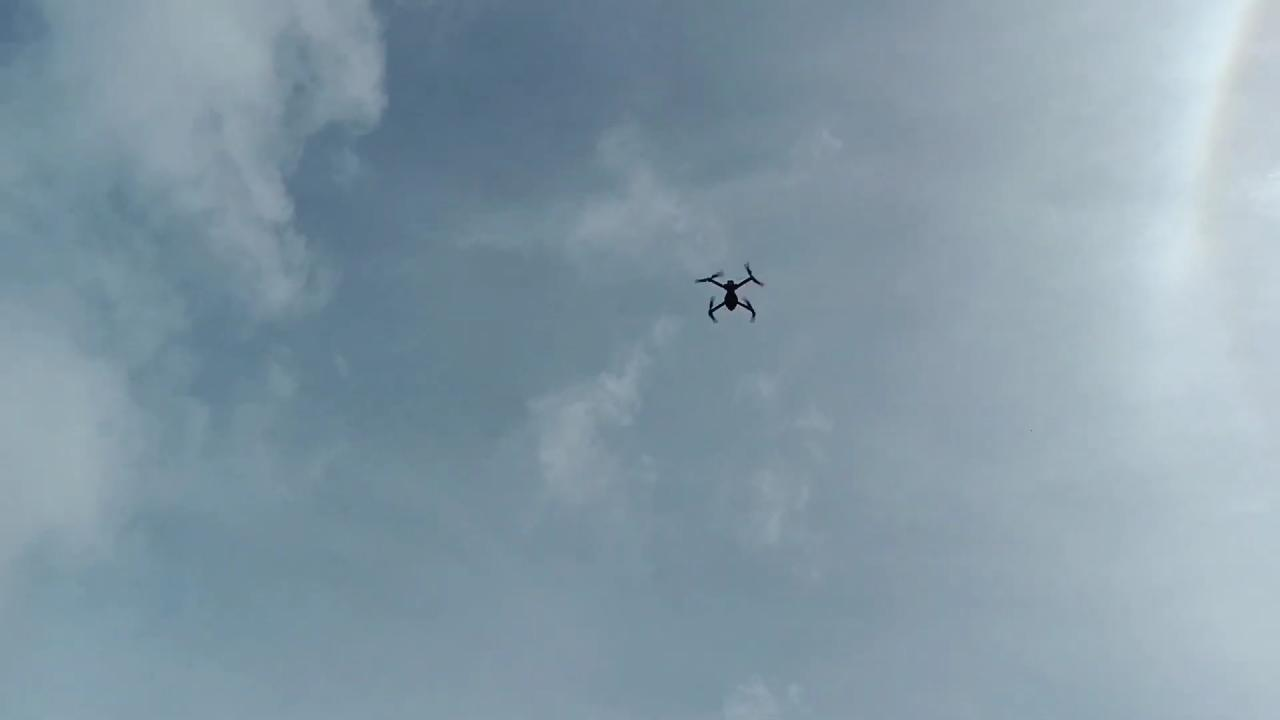Drone: (687, 253, 772, 333)
